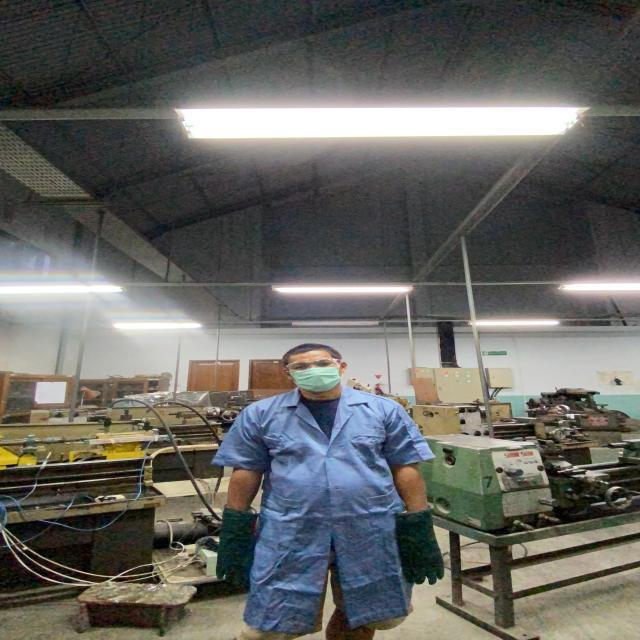glasses: (280, 355, 344, 372)
